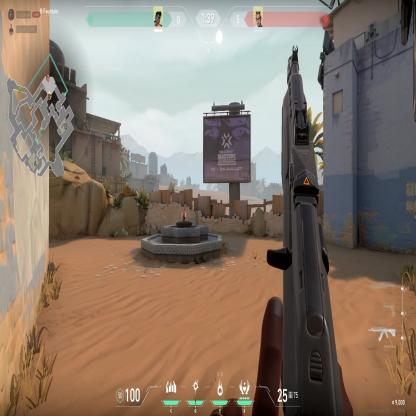enemy: (180, 207, 186, 221)
